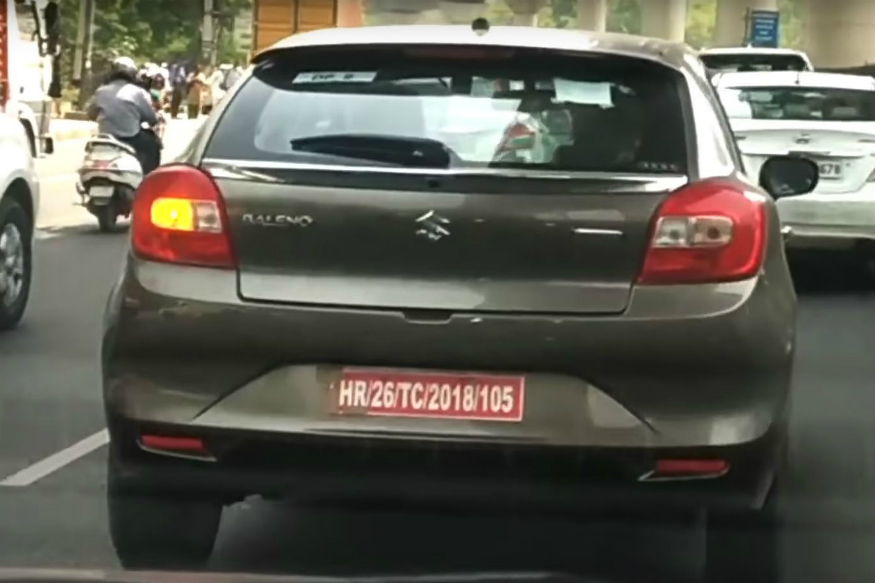number_plate: (323, 362, 529, 428)
